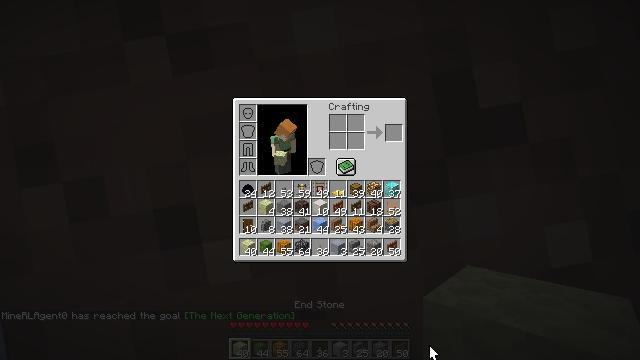cursor: (429, 345, 439, 360)
